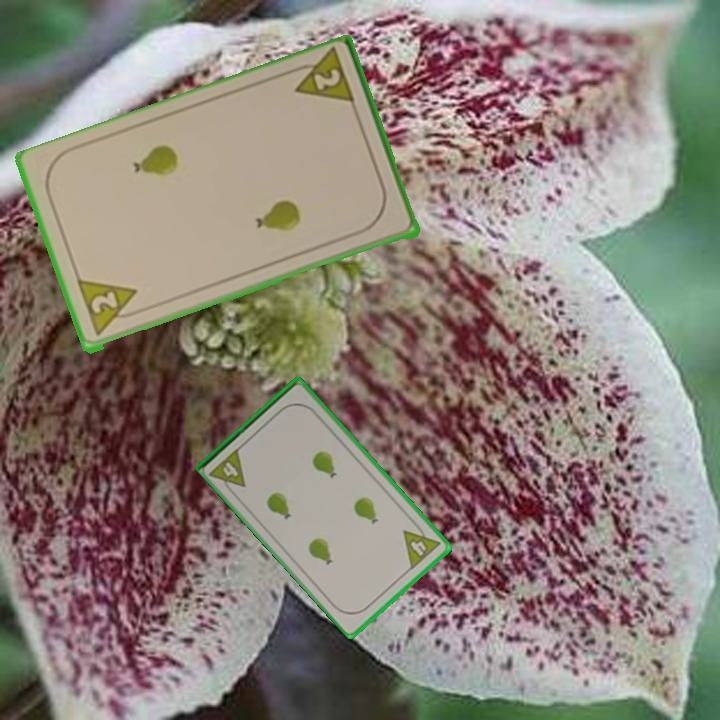2p: (74, 277, 145, 340), (309, 65, 344, 94)
4p: (400, 518, 443, 572), (206, 444, 249, 498)
